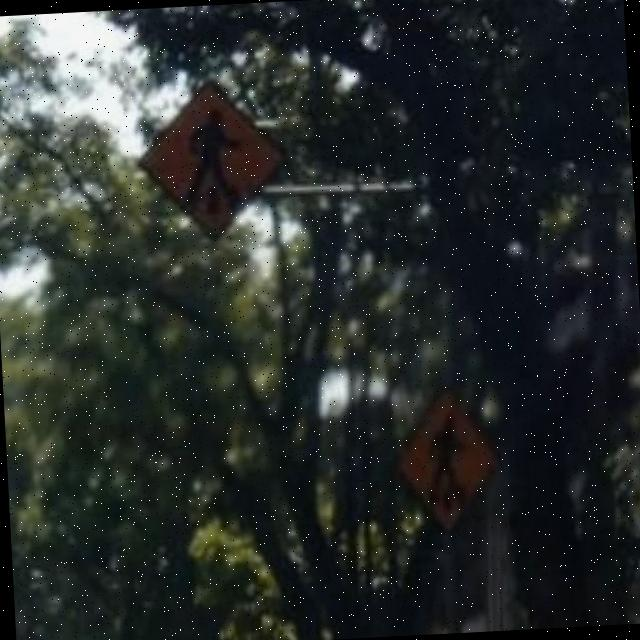Przejscie dla pieszych: (138, 83, 282, 238), (396, 395, 493, 527)
